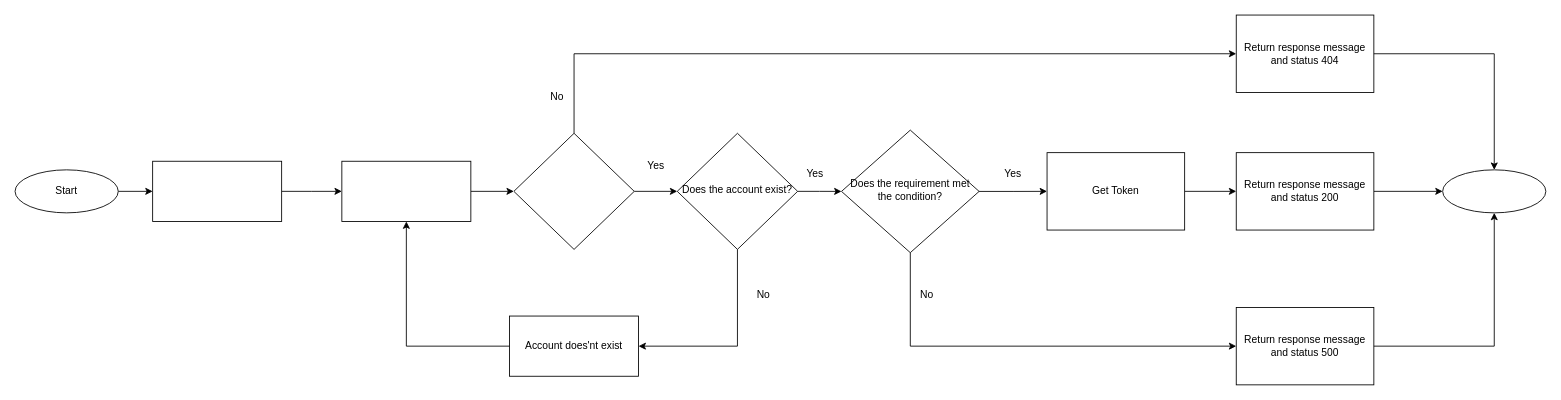
This 1561x400 diagram has some shape labels left out. Each missing label, with the box of its shape:
Does the auth endpoint exist?: (513, 132, 634, 249)
End: (1442, 169, 1546, 213)
Login: (341, 160, 471, 221)
Receive Request: (152, 160, 282, 221)
